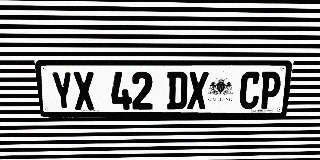2: (132, 72, 152, 110)
4: (110, 72, 132, 110)
C: (238, 72, 262, 109)
D: (167, 72, 188, 109)
P: (258, 72, 282, 109)
X: (72, 72, 96, 110), (187, 72, 209, 109)
Y: (50, 72, 75, 110)
